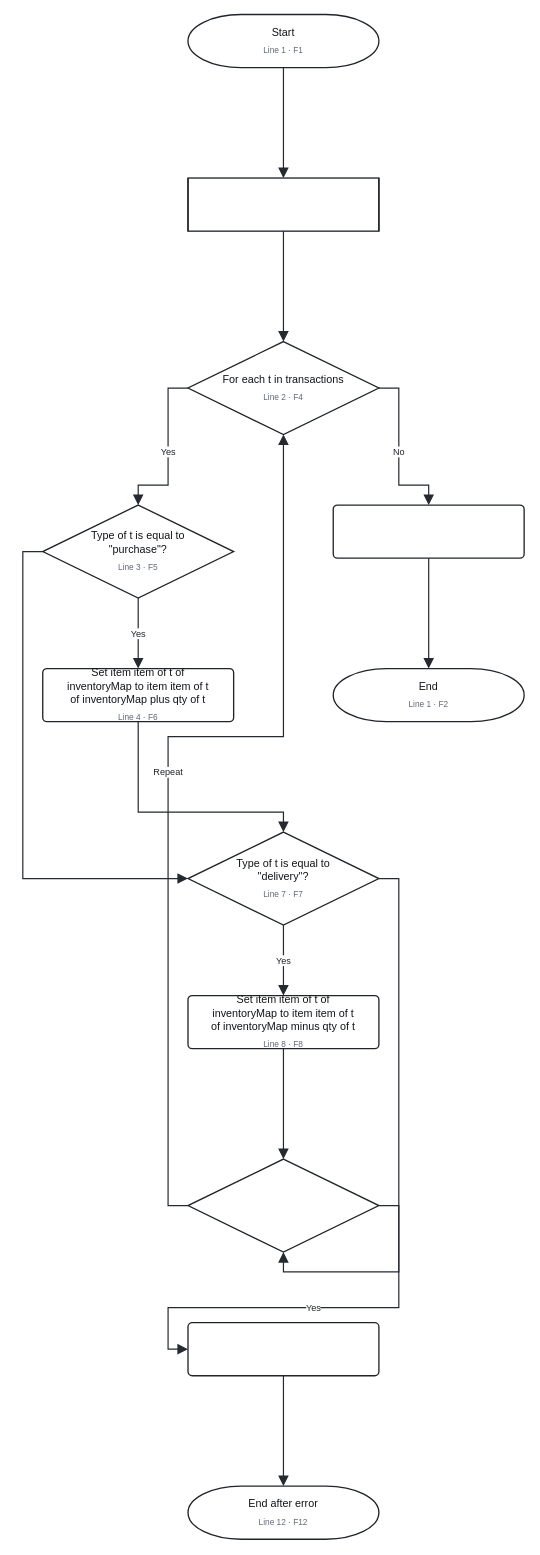
Image size: 540x1555. Some labels were removed from this diagram. The centre of each missing label's shape, as x and y in pixels:
Item item of t of inventoryMap is less than 0? Line 11 · F9: [283,1205]
Raise error "Insufficient Stock" Line 12 · F10: [283,1349]
Return inventoryMap Line 16 · F11: [428,531]
Run function unnamed_function with inventoryMap, transactions Line 1 · F3: [283,204]
